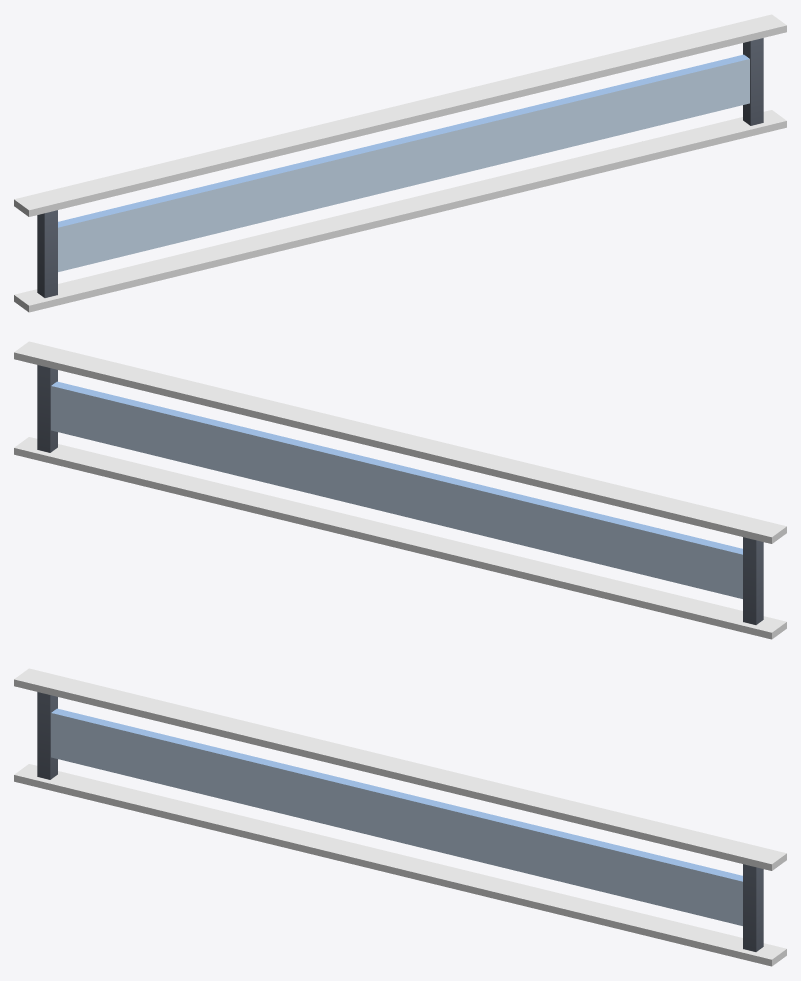
Rendered from Glass_Railing_45_Long.fbx.
3 views of the same model, one above another, from view 1: azimuth 30°, elevation 25°; view 2: azimuth 150°, elevation 25°; view 3: azimuth 330°, elevation 25° (orthographic).
Visible parts, largest first — view 1: Cube.106; view 2: Cube.106; view 3: Cube.106.
Part boxes in pixels (x1,y1,x2,y2): Cube.106: (14,14,786,312); Cube.106: (14,341,786,639); Cube.106: (14,668,786,966).
Bounding box in the file's own units: 582 × 75 × 20.
